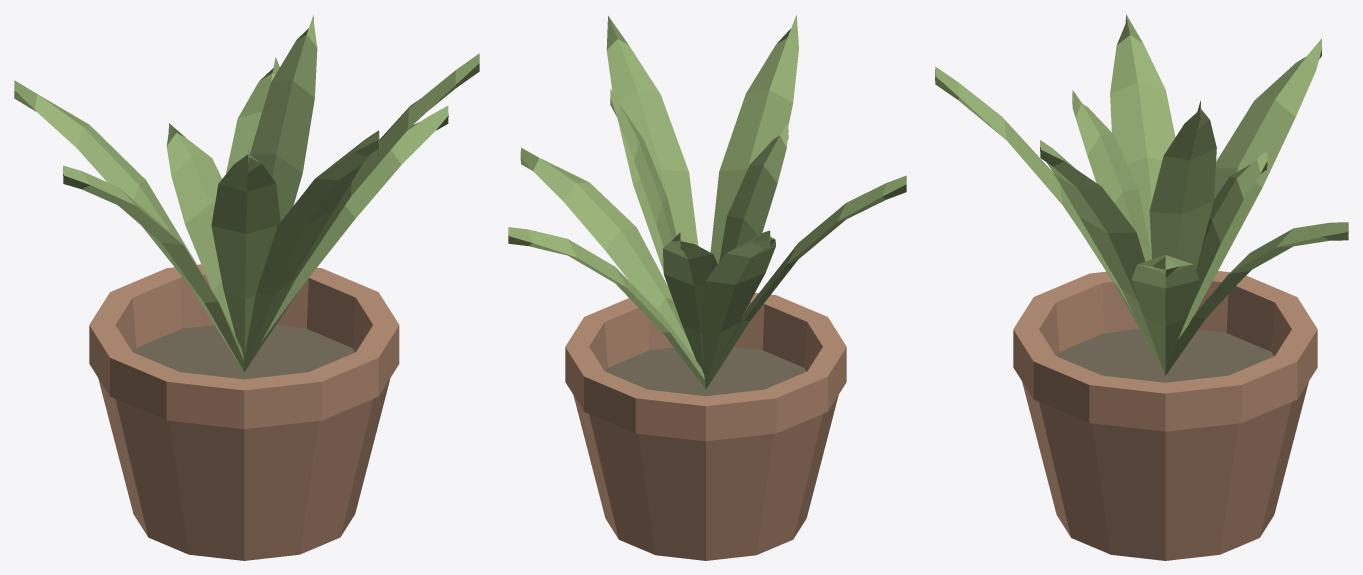
The model's file is small-aloe.glb.
The picture shows the model from 3 angles, left to right: view 1: azimuth 30°, elevation 25°; view 2: azimuth 150°, elevation 25°; view 3: azimuth 270°, elevation 25°; orthographic projection. The views are drawn at different scales.
Visible parts, largest first — view 1: small-aloe; view 2: small-aloe; view 3: small-aloe.
Boxes of the visible parts, box(x1,y1,x2,y2) form: small-aloe: box(14, 15, 479, 560); small-aloe: box(508, 15, 906, 560); small-aloe: box(935, 14, 1348, 560).
Size of the model in its own units: 0.4369 by 0.48 by 0.3937.
